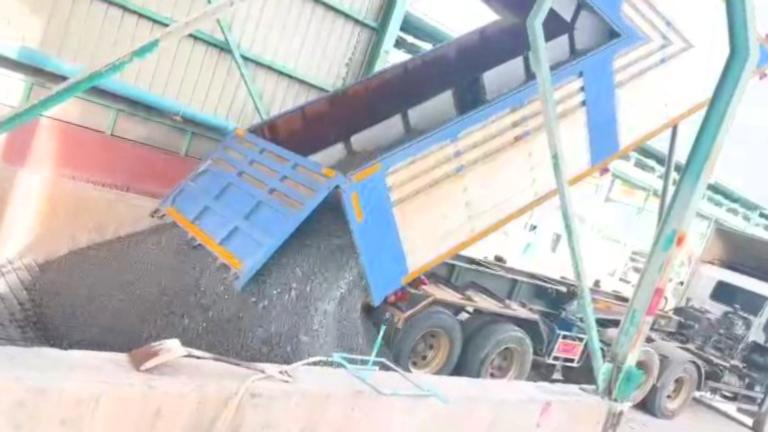gravel: (31, 200, 375, 362), (336, 145, 386, 171)
